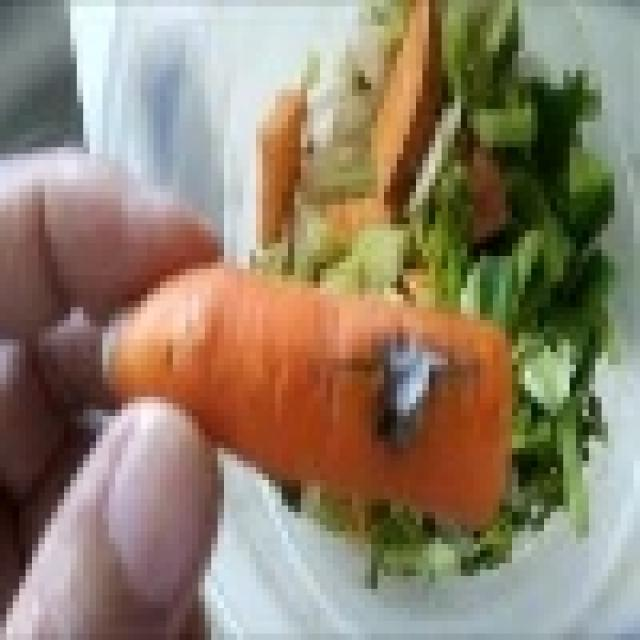Stale_Carrot: (109, 265, 510, 526)
